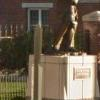Statue: (41, 1, 93, 64)
